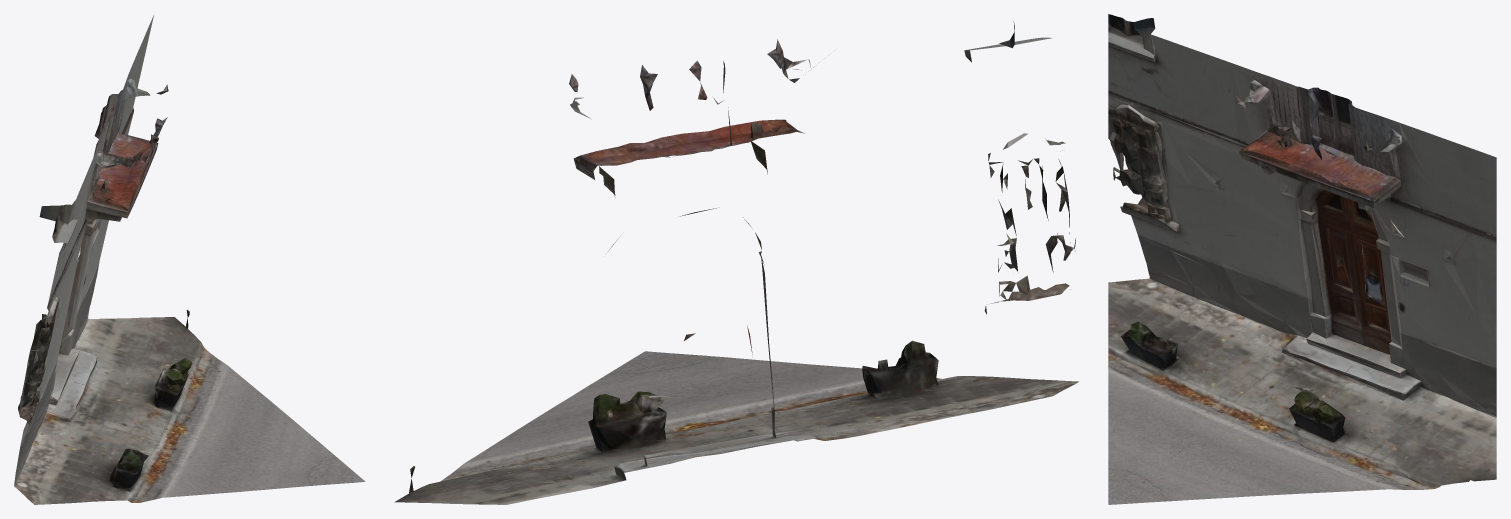
3 views of the same model, side by side, from view 1: azimuth 30°, elevation 25°; view 2: azimuth 150°, elevation 25°; view 3: azimuth 270°, elevation 25° (orthographic). The views are drawn at different scales.
Bounding box in the file's own units: 6.7 × 6.43 × 6.7.
Materials: 5 (5 with a texture image).
